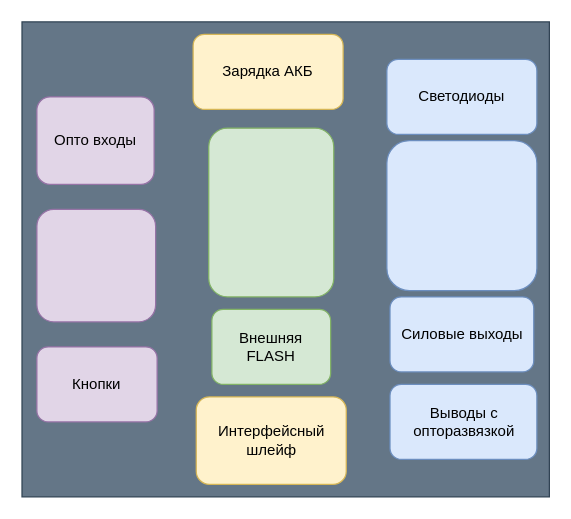
The diagram is 571 pixels wide and 519 high, and some of its shapes have lost their labels. The shapes that lost their labels are listed below. From the top down, each one's box as (x1, y1, x2, y2) in pixels, then its label:
(208, 127, 334, 297): MCU
(386, 139, 537, 291): 7-сегментный индикатор
(36, 208, 156, 322): USB-UART
